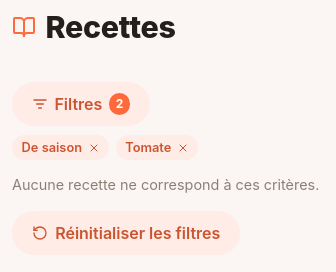
RecipeListView filters › initialises filters and the badge from the URL query, and syncs edits back to it
Check: the text with test id "filters-badge" reads "2", box [116,96,123,111]
Replace the text in the field with id "search" with "tarte": (105,121) [12,82,198,160]
Wait 400 ms
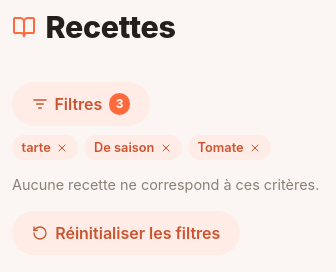
Check: the button "tarte" is shown, box [12,135,78,160]
Check: the text with test id "filters-badge" reads "3", box [116,96,123,111]
